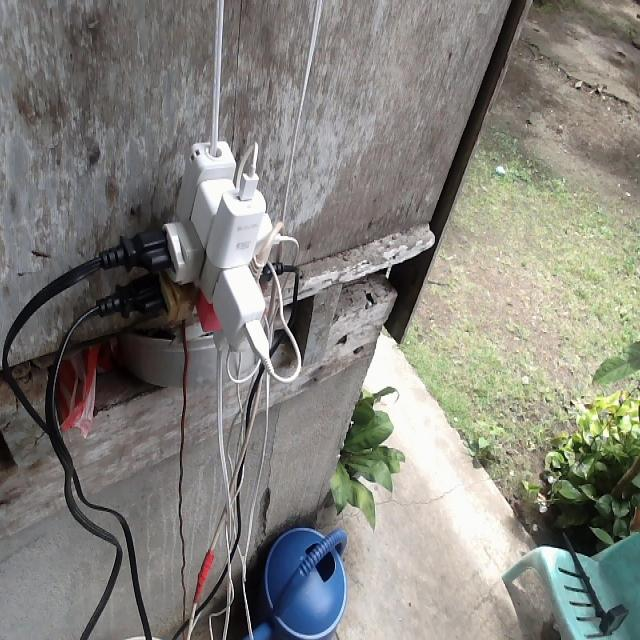-: (136, 136, 272, 357)
